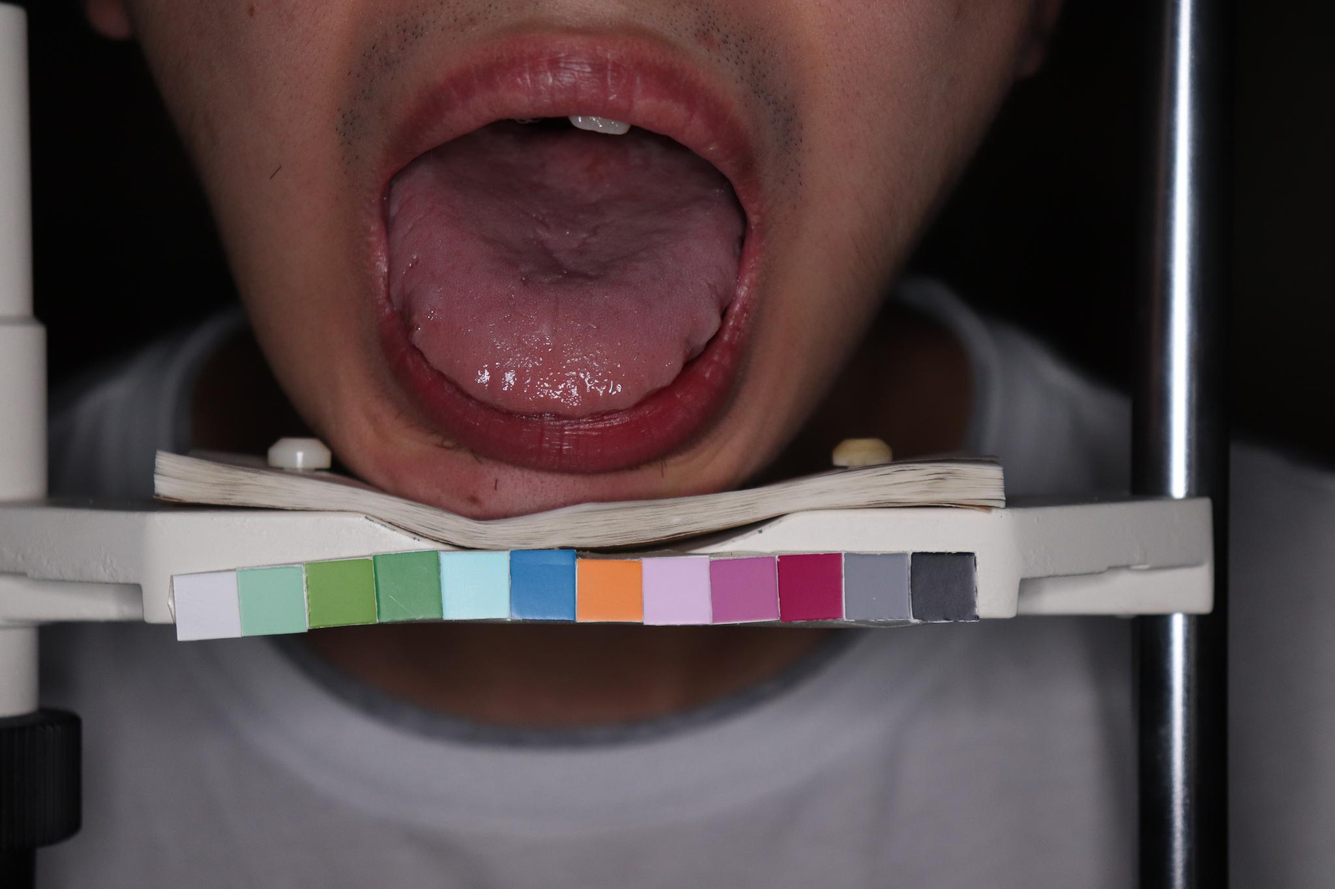baitaishe: (387, 132, 743, 416)
chihenshe: (394, 274, 417, 343)
hongdianshe: (557, 338, 656, 399)
huataishe: (530, 367, 583, 410)
liewenshe: (510, 201, 643, 264)
zishe: (386, 131, 742, 416)
